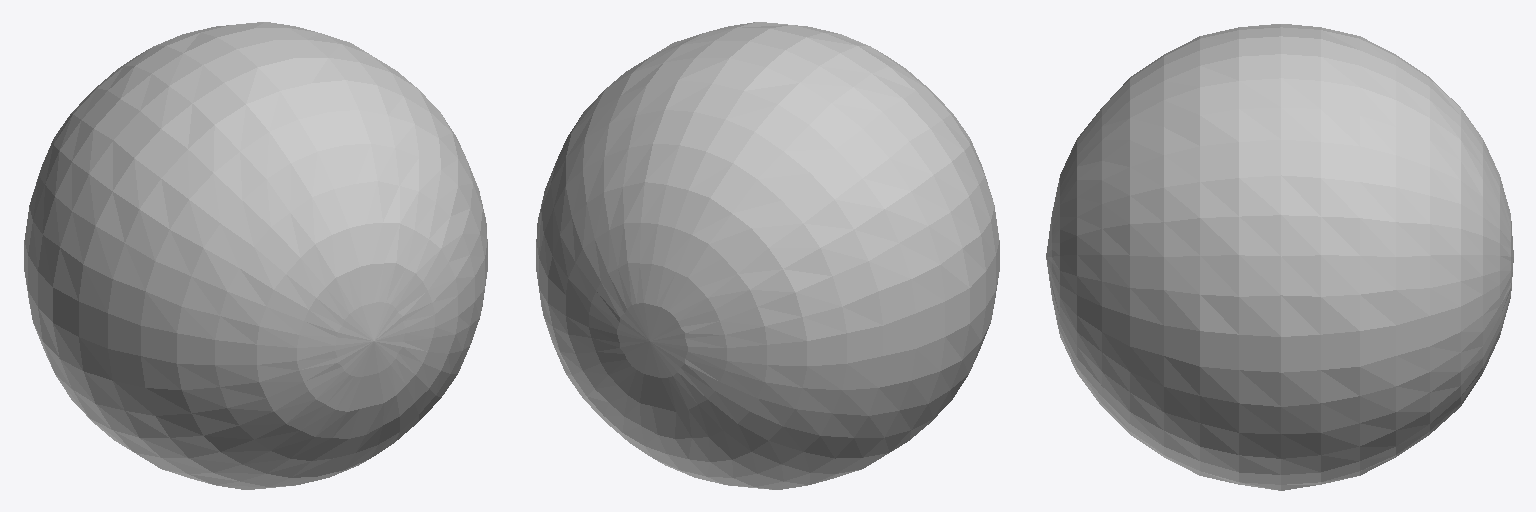
File: Vil_Left_Eye.obj
3 renders of one model, left to right at view 1: azimuth 30°, elevation 25°; view 2: azimuth 150°, elevation 25°; view 3: azimuth 270°, elevation 25°, orthographic.
Visible parts, largest first — view 1: obj_0; view 2: obj_0; view 3: obj_0.
Part boxes in pixels (left/top/right/bottom): obj_0: left=24, top=22, right=487, bottom=489; obj_0: left=536, top=22, right=999, bottom=489; obj_0: left=1046, top=24, right=1513, bottom=490.
Size of the model in its own units: 0.167 by 0.166 by 0.167.